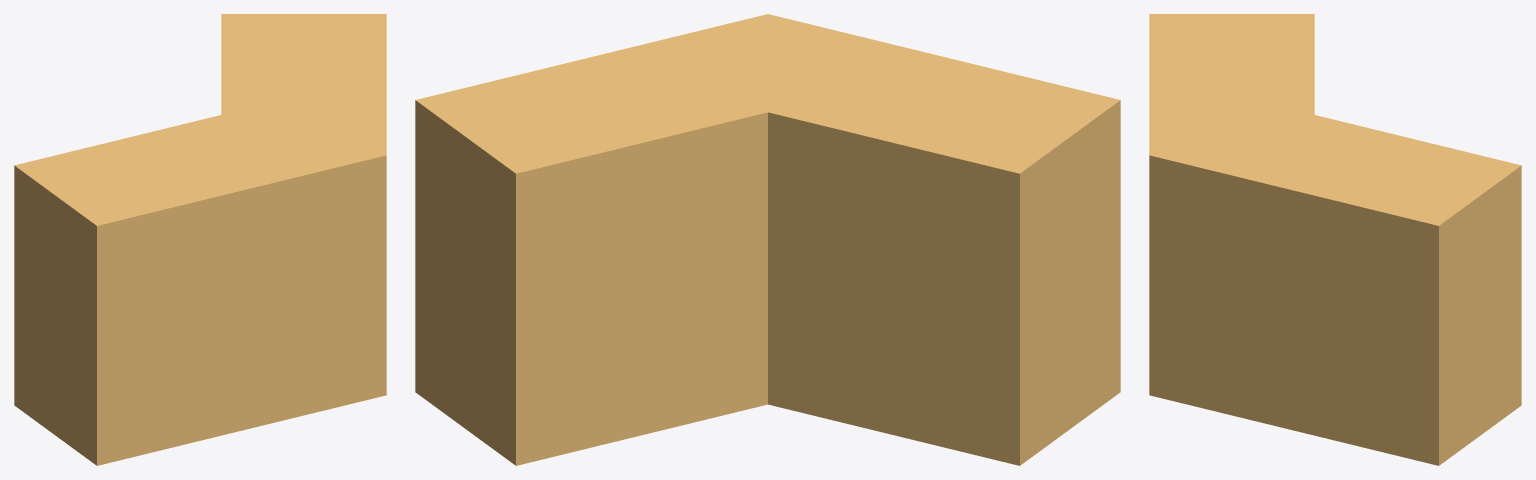
3 views of the same model, side by side, from view 1: azimuth 30°, elevation 25°; view 2: azimuth 150°, elevation 25°; view 3: azimuth 270°, elevation 25° (orthographic). The views are drawn at different scales.
Parts seen in each view (by area): view 1: WoodenWallHalfCurvedTall; view 2: WoodenWallHalfCurvedTall; view 3: WoodenWallHalfCurvedTall.
Part boxes in pixels (x1,y1,x2,y2): WoodenWallHalfCurvedTall: (14, 14, 386, 465); WoodenWallHalfCurvedTall: (415, 14, 1120, 465); WoodenWallHalfCurvedTall: (1149, 14, 1521, 465).
Size of the model in its own units: 1.52 by 0.8 by 1.12.
Materials: 1 (1 with a texture image).
